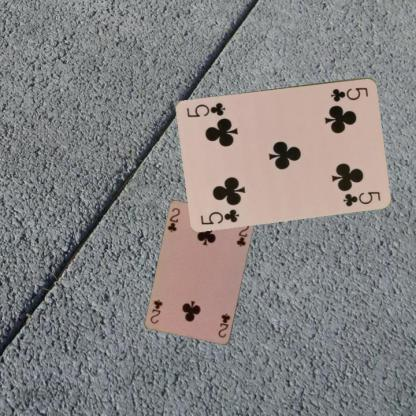2c: (166, 205, 182, 234), (216, 311, 232, 339)
5c: (198, 206, 241, 226), (328, 84, 369, 103)
